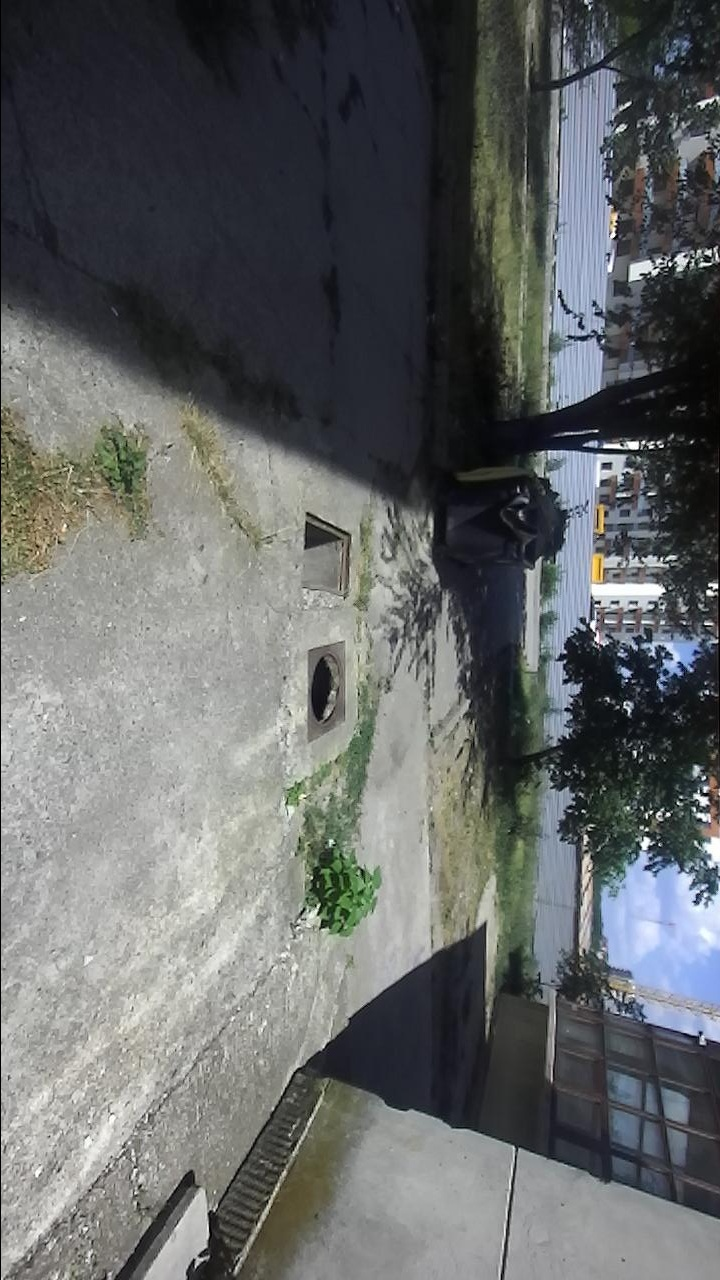drain: (302, 506, 352, 603), (305, 645, 346, 726)
